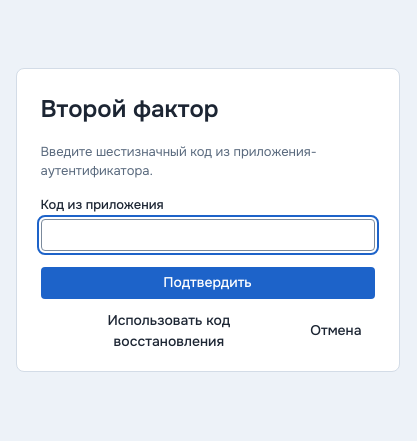
Test: консоль: вход › mfa_pending: код отправляется, неверный код — общий текст
Type "123456" into the field labelled "Код из приложения" at (208, 235), box [40, 219, 374, 251]
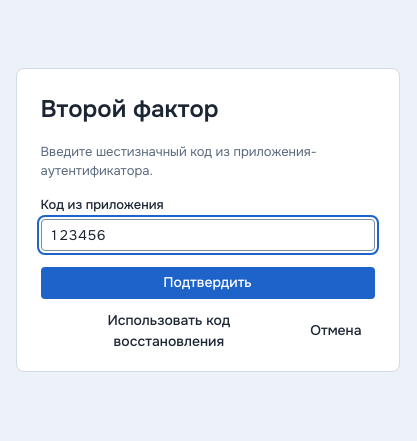
Click the button "Подтвердить" at (208, 283), box [40, 267, 374, 299]
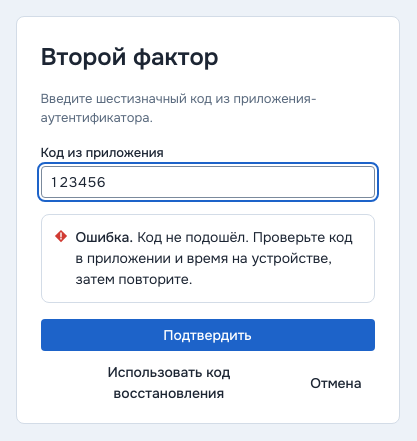
Expected: the message shows "Код не подошёл", [76, 228, 352, 288]
